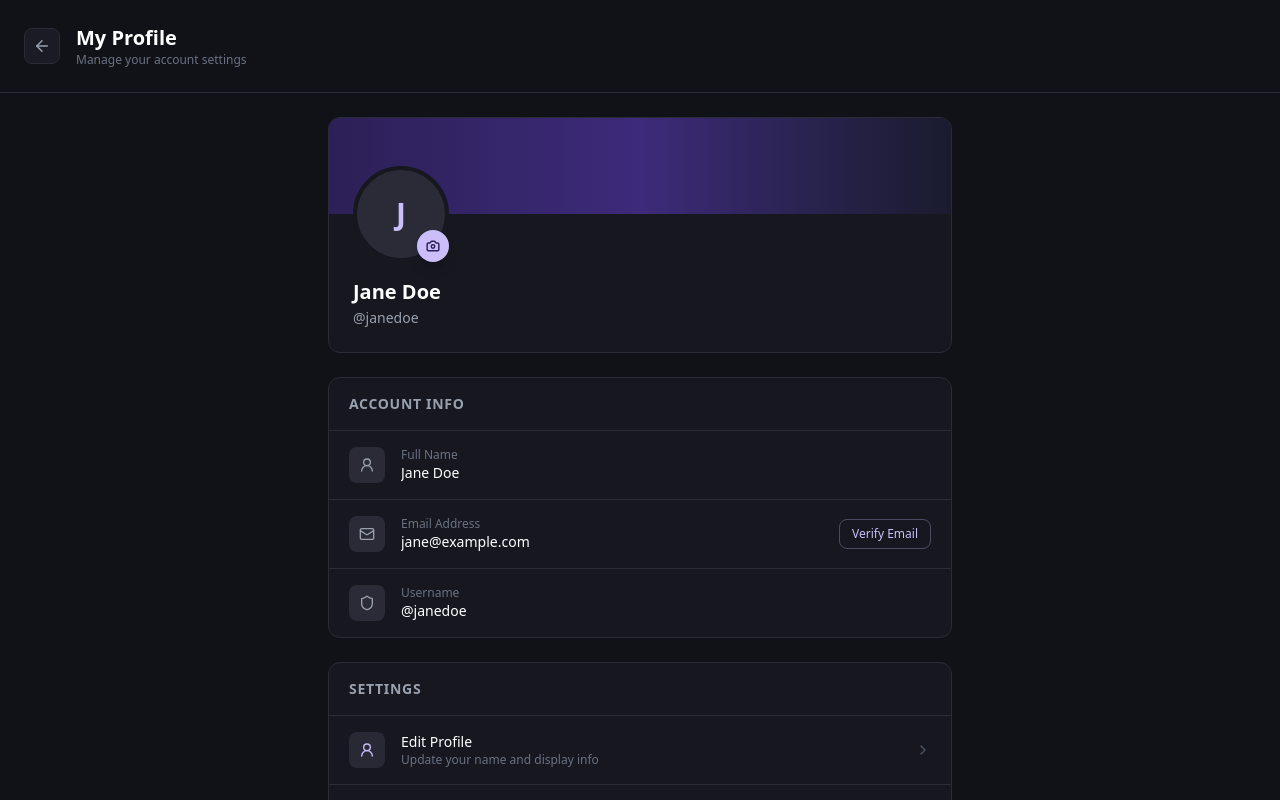
ProfilePage › shows an error when verification fails
Step 1. Click the button "Verify Email" → (885, 534), box x1=839 y1=519 x2=931 y2=549
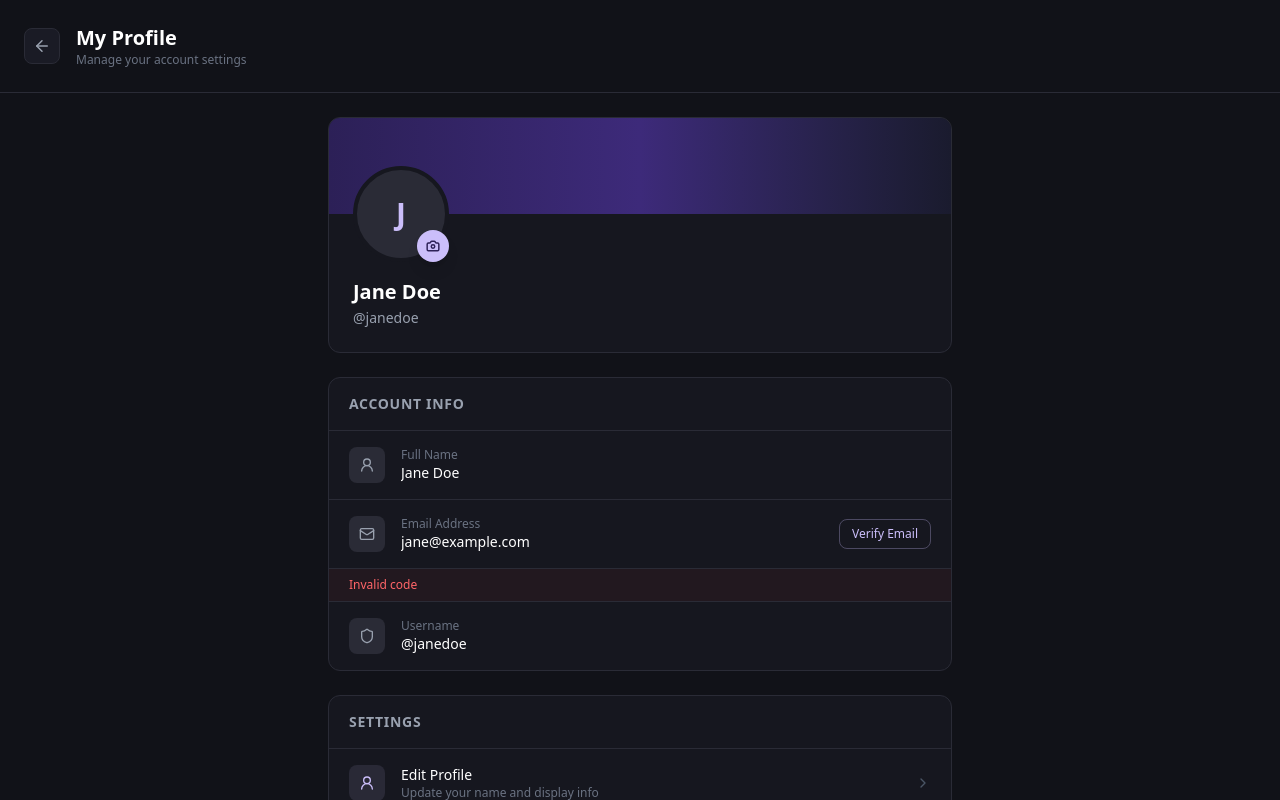
Result: the text "Invalid code" is shown at x1=329 y1=569 x2=951 y2=602
